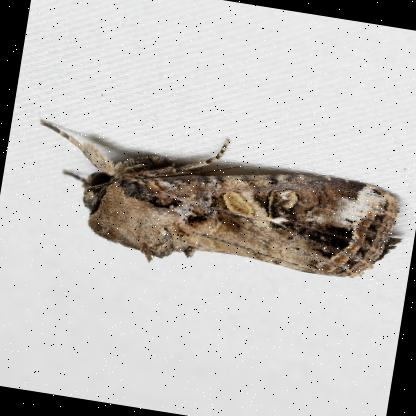Fall Armyworm Moth: (16, 104, 416, 304)
